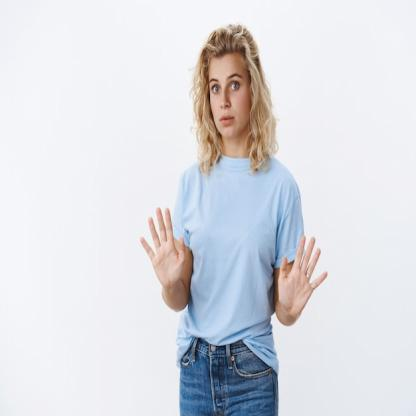stop: (136, 198, 188, 292), (278, 230, 328, 324)
